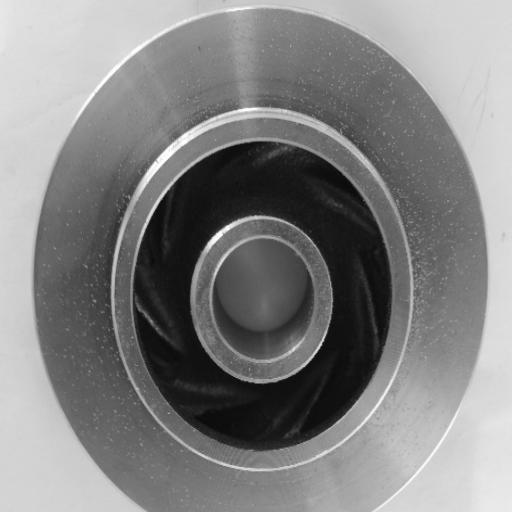polished_casting: (29, 5, 488, 512)
